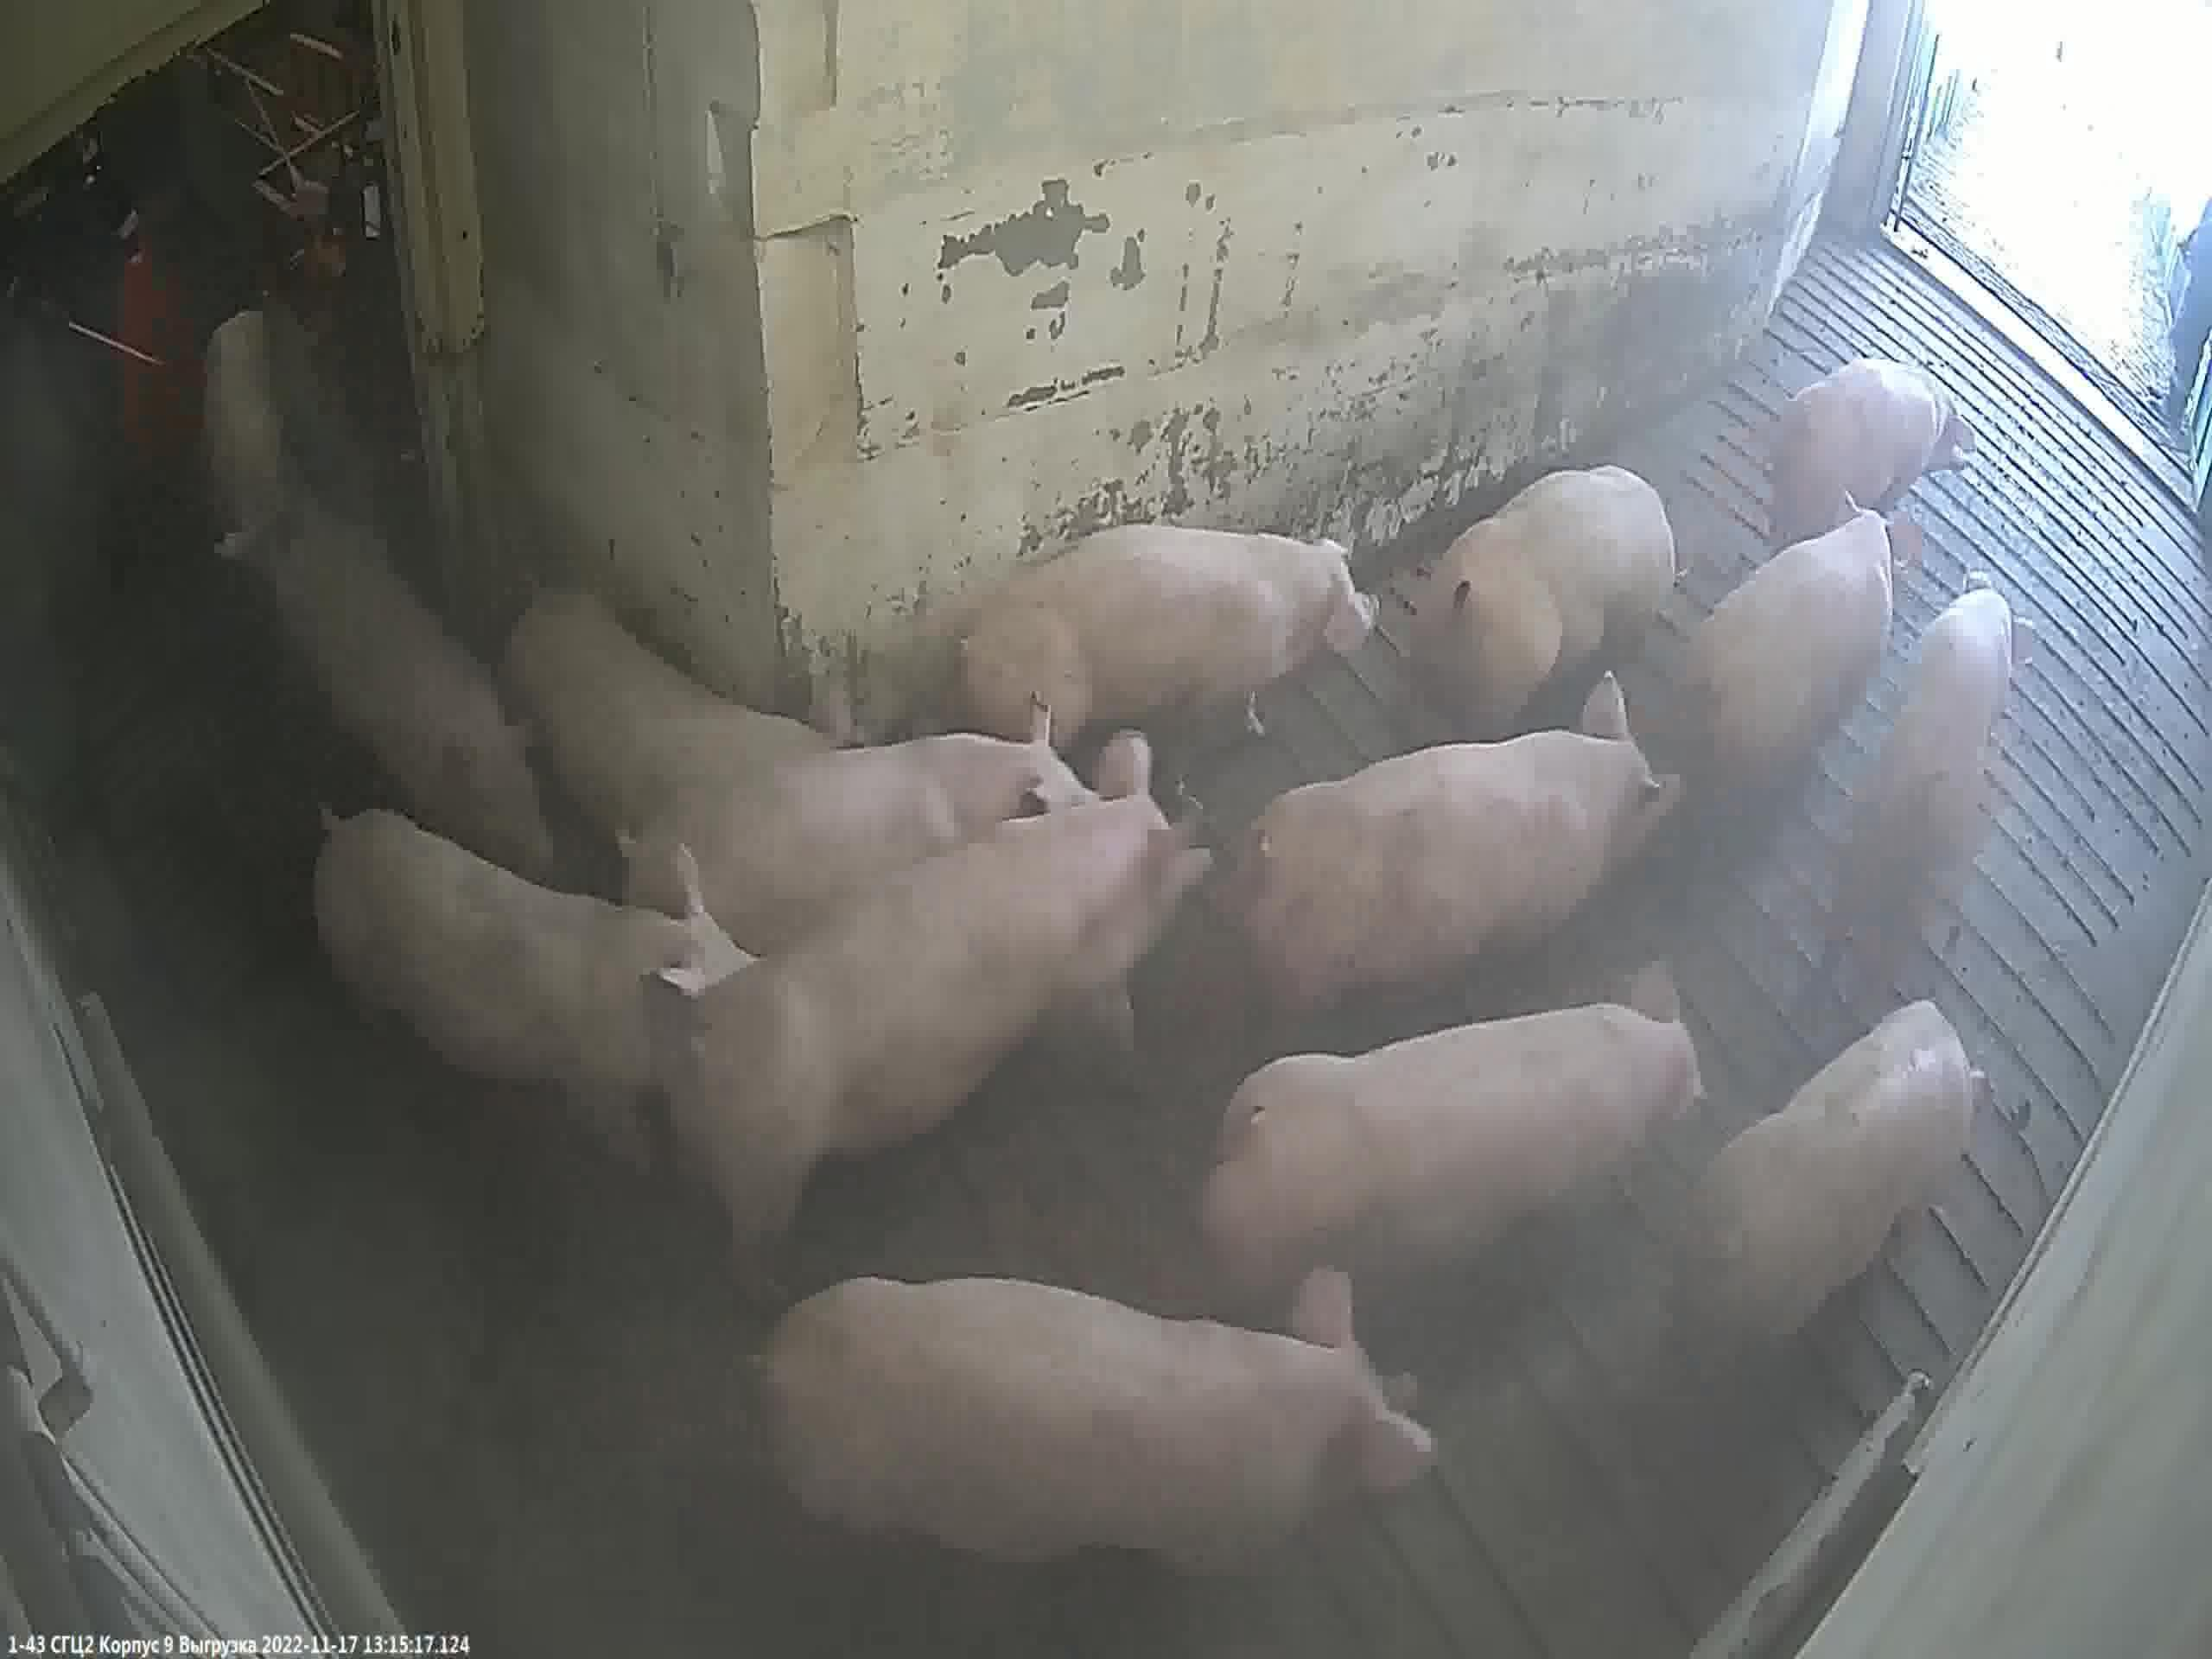Pigs: (674, 728, 1212, 1248), (759, 1269, 1437, 1581), (1200, 957, 1700, 1293), (314, 805, 759, 1164), (1242, 671, 1683, 1028), (631, 702, 1097, 957), (1677, 1007, 1987, 1370), (275, 525, 559, 880), (965, 526, 1371, 746), (1676, 491, 1926, 814), (519, 591, 857, 805), (1425, 465, 1674, 739), (1839, 575, 2012, 962), (1784, 368, 1975, 540), (207, 310, 279, 582)
